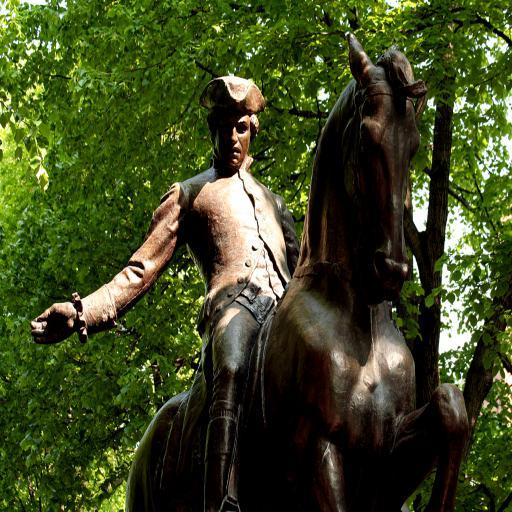Horse: (124, 28, 471, 512)
